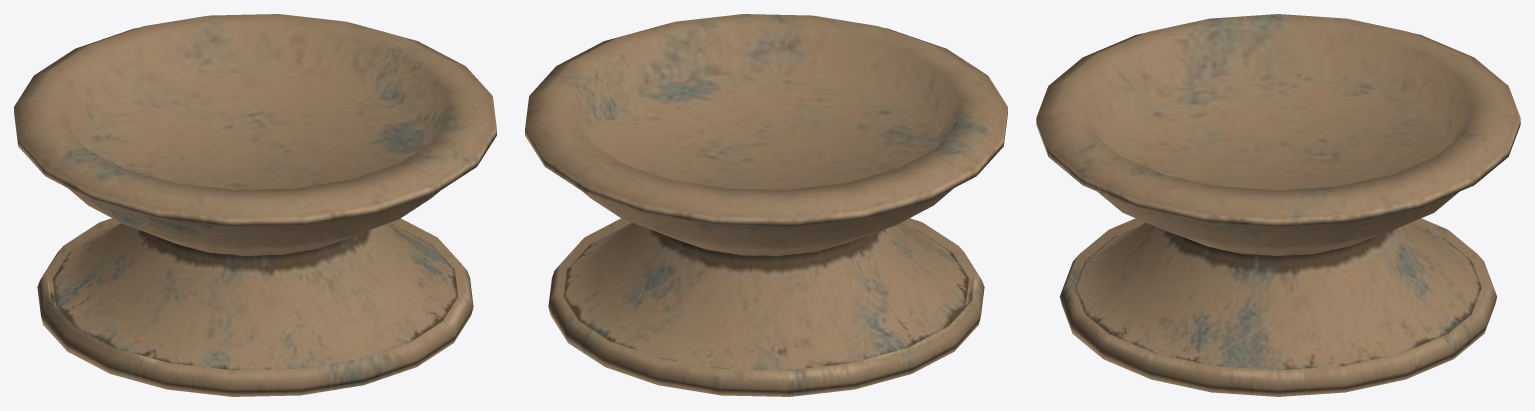
The model's file is SM_CandleHolder_Bronze.glb.
3 views of the same model, side by side, from view 1: azimuth 30°, elevation 25°; view 2: azimuth 150°, elevation 25°; view 3: azimuth 270°, elevation 25° (orthographic).
Visible parts, largest first — view 1: SM_CandleHolder_Bronze; view 2: SM_CandleHolder_Bronze; view 3: SM_CandleHolder_Bronze.
Boxes of the visible parts, left/top/right/bottom form: SM_CandleHolder_Bronze: left=14, top=14, right=496, bottom=396; SM_CandleHolder_Bronze: left=525, top=14, right=1007, bottom=396; SM_CandleHolder_Bronze: left=1036, top=14, right=1520, bottom=396.
Bounding box in the file's own units: 0.182 × 0.0818 × 0.182.
Materials: 1 (1 with a texture image).
